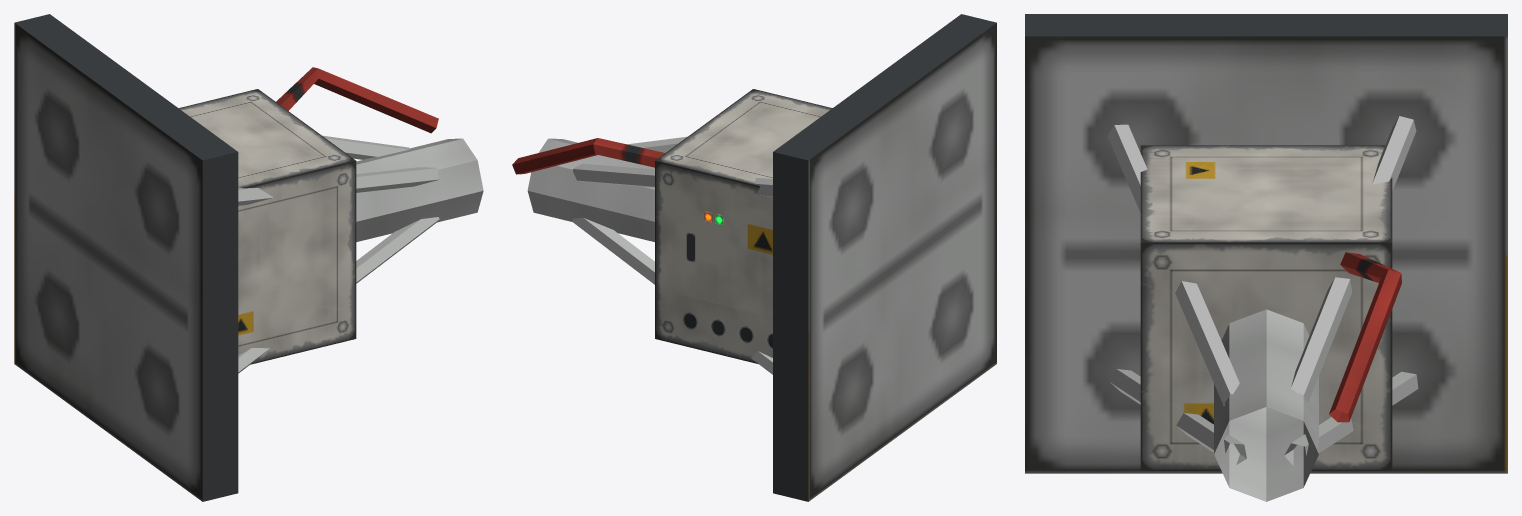
File: wing_mount.fbx
3 views of the same model, side by side, from view 1: azimuth 30°, elevation 25°; view 2: azimuth 150°, elevation 25°; view 3: azimuth 270°, elevation 25° (orthographic). The views are drawn at different scales.
Parts seen in each view (by area): view 1: wing_mount; view 2: wing_mount; view 3: wing_mount.
Part boxes in pixels (x1,y1,x2,y2): wing_mount: [14, 14, 483, 501]; wing_mount: [512, 14, 996, 501]; wing_mount: [1025, 14, 1507, 501].
Bounding box in the file's own units: 0.5057 × 0.46 × 0.46.
Materials: 1 (1 with a texture image).
